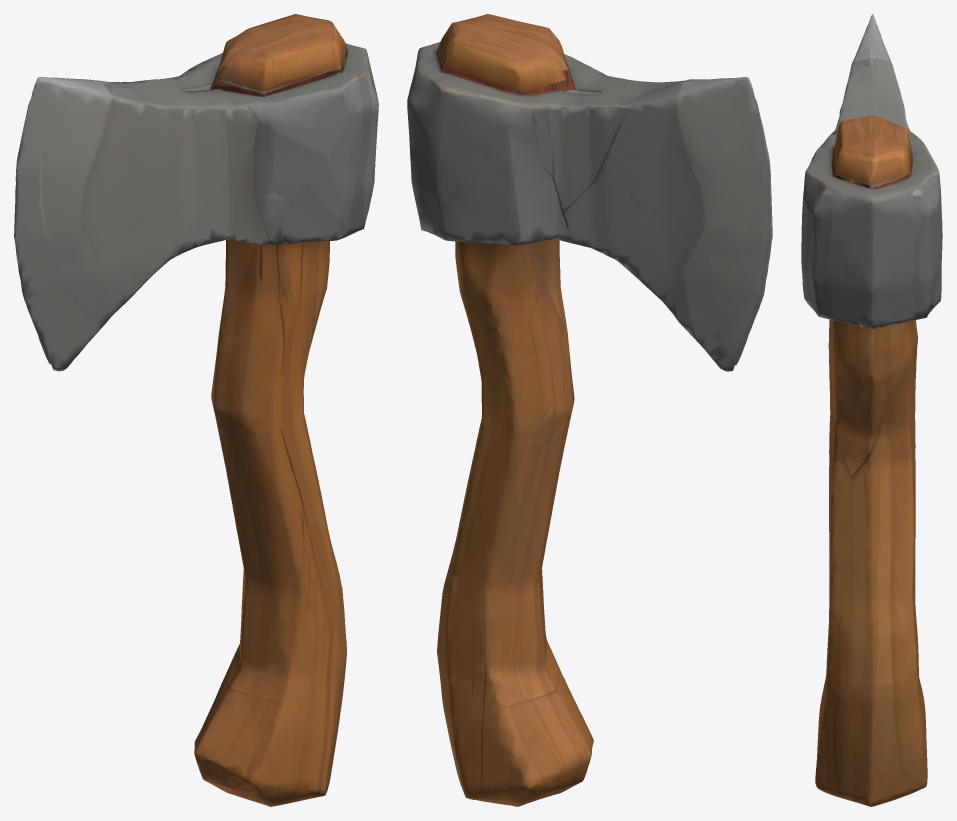
File: axe.glb
The picture shows the model from 3 angles, left to right: view 1: azimuth 30°, elevation 25°; view 2: azimuth 150°, elevation 25°; view 3: azimuth 270°, elevation 25°; orthographic projection. The views are drawn at different scales.
Size of the model in its own units: 0.9555 by 2 by 0.3762.
Materials: 1 (1 with a texture image).
